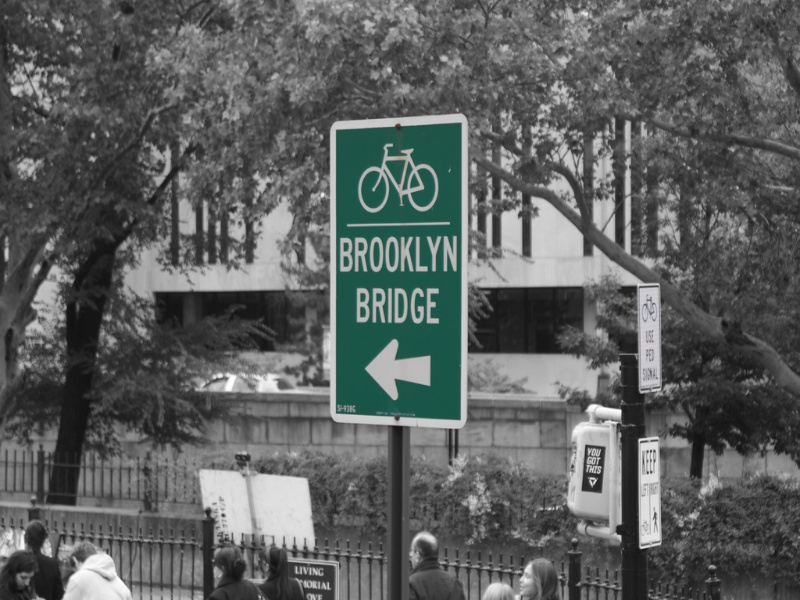cycle_route_ahead: (352, 141, 441, 217)
left_direction: (359, 338, 437, 404)
